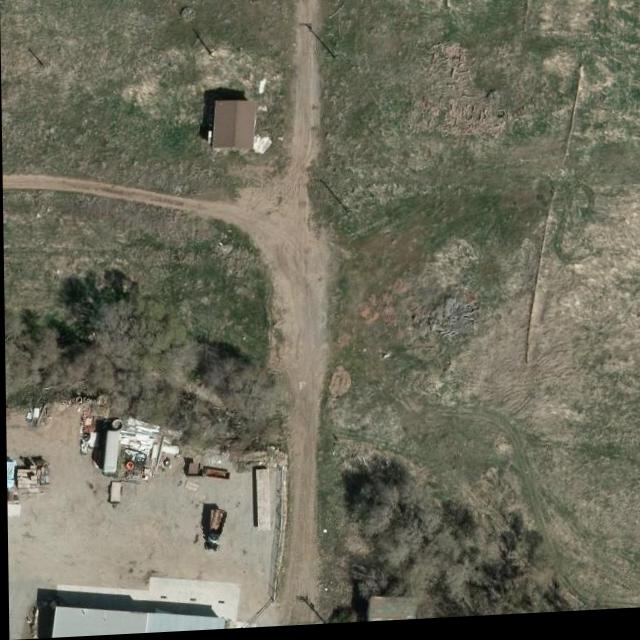vehicle: (205, 511, 225, 556)
